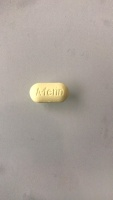Aferin: (29, 81, 70, 104)
